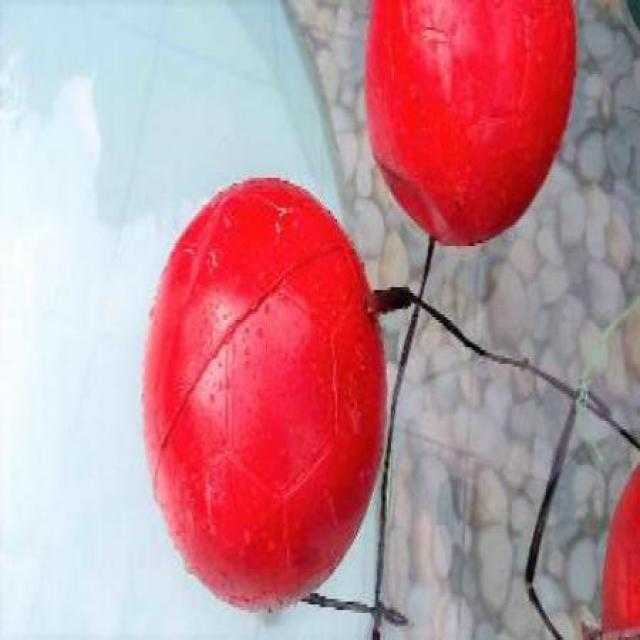buoy: (143, 176, 386, 612), (364, 0, 576, 246)
